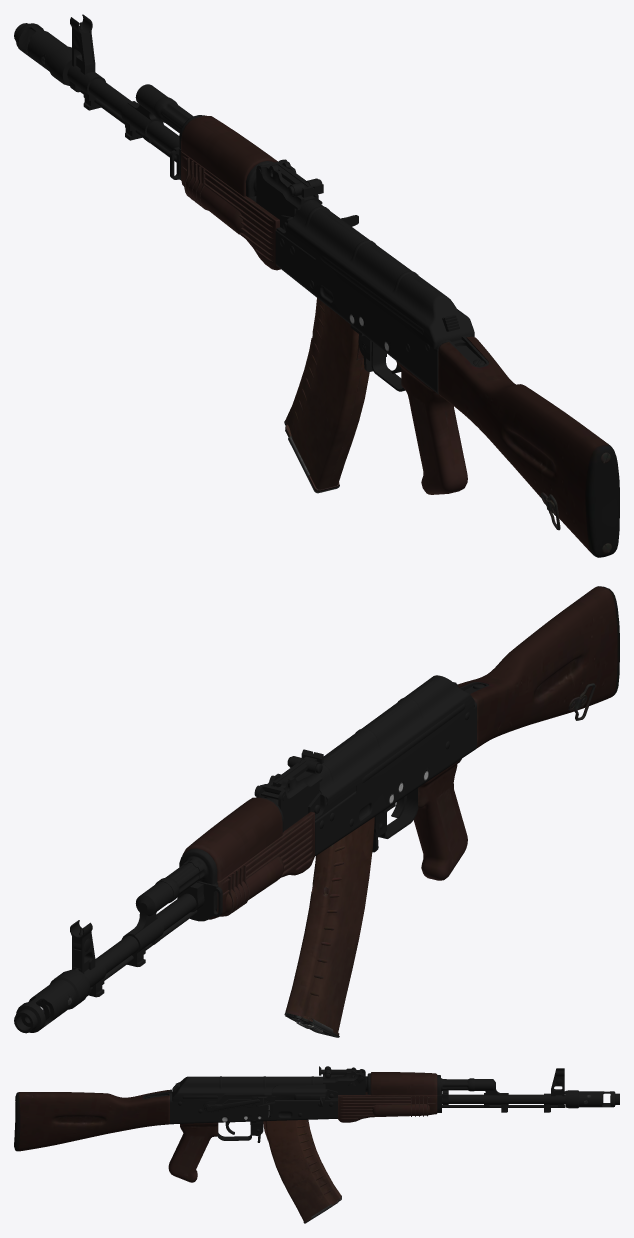
3 views of the same model, one above another, from view 1: azimuth 30°, elevation 25°; view 2: azimuth 150°, elevation 25°; view 3: azimuth 270°, elevation 25° (orthographic). The views are drawn at different scales.
Visible parts, largest first — view 1: AK-74_body.004, AK-74_stock.003, AK-74_polymer_mag30.004, AK-74_phandguard.003, AK-74__grip.003; view 2: AK-74_body.004, AK-74_stock.003, AK-74_polymer_mag30.004, AK-74_phandguard.003, AK-74__grip.003; view 3: AK-74_body.004, AK-74_stock.003, AK-74_polymer_mag30.004, AK-74_phandguard.003, AK-74__grip.003.
Boxes of the visible parts, box(x1,y1,x2,y2) form: AK-74_body.004: box(14, 14, 488, 394); AK-74_stock.003: box(438, 336, 619, 557); AK-74_polymer_mag30.004: box(284, 298, 369, 493); AK-74_phandguard.003: box(181, 115, 280, 270); AK-74__grip.003: box(396, 361, 467, 494); AK-74_body.004: box(14, 675, 488, 1033); AK-74_stock.003: box(457, 586, 619, 748); AK-74_polymer_mag30.004: box(284, 817, 374, 1037); AK-74_phandguard.003: box(182, 797, 314, 919); AK-74__grip.003: box(413, 759, 467, 880); AK-74_body.004: box(142, 1066, 619, 1142); AK-74_stock.003: box(14, 1090, 169, 1151); AK-74_polymer_mag30.004: box(263, 1120, 341, 1223); AK-74_phandguard.003: box(338, 1072, 437, 1122); AK-74__grip.003: box(168, 1122, 218, 1182).
Bounding box in the file's own units: 0.0682 × 0.2612 × 0.9415.
Materials: 3 (3 with a texture image).
